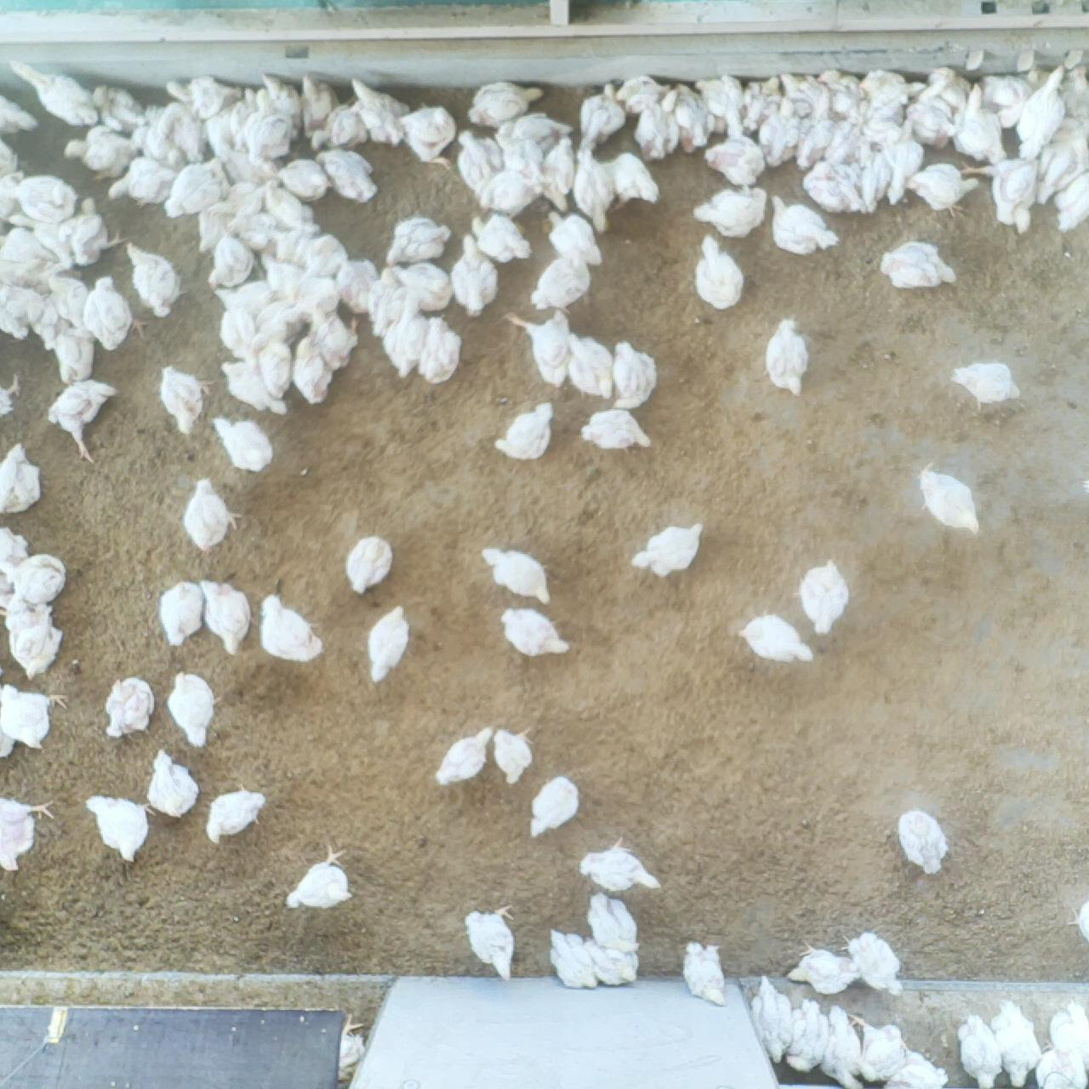chicken: (3, 52, 104, 130), (958, 150, 1048, 237), (40, 374, 123, 467), (498, 302, 574, 397), (914, 453, 989, 542), (81, 790, 157, 871), (0, 589, 66, 681), (1013, 57, 1068, 165), (121, 239, 190, 325), (282, 841, 359, 917), (255, 591, 326, 673), (828, 924, 909, 995), (574, 831, 663, 894), (175, 474, 245, 554), (155, 358, 217, 448), (0, 793, 63, 880), (81, 271, 147, 352), (479, 539, 557, 607), (58, 118, 139, 183), (767, 189, 841, 260), (1035, 110, 1089, 207), (463, 900, 525, 984), (877, 234, 962, 295), (486, 399, 561, 468), (395, 98, 461, 174), (141, 743, 201, 826), (0, 682, 68, 755), (948, 356, 1026, 419), (989, 995, 1041, 1089), (689, 228, 745, 315), (948, 80, 1007, 162), (431, 723, 500, 793), (201, 780, 272, 848), (57, 195, 123, 268), (380, 290, 432, 382), (207, 412, 278, 479), (163, 669, 222, 749), (902, 157, 979, 218), (690, 181, 769, 240), (747, 972, 796, 1066), (451, 228, 502, 318), (630, 518, 706, 578), (561, 329, 621, 405), (761, 311, 812, 400), (360, 604, 414, 688), (735, 612, 816, 668), (303, 303, 365, 376), (150, 575, 210, 650), (798, 555, 853, 636), (848, 1012, 909, 1085), (497, 606, 575, 663), (217, 358, 291, 418), (974, 67, 1040, 133), (802, 154, 870, 218), (819, 1002, 869, 1089), (413, 308, 467, 388), (605, 337, 661, 414), (349, 72, 408, 145), (106, 154, 179, 212), (198, 578, 256, 651), (528, 252, 594, 316), (543, 926, 606, 993), (544, 203, 606, 271), (165, 68, 246, 120), (894, 804, 950, 879), (467, 76, 549, 127), (382, 214, 454, 272), (160, 156, 224, 221), (883, 114, 928, 206), (601, 151, 664, 216), (338, 532, 399, 599), (954, 1009, 1005, 1089), (587, 887, 646, 956), (477, 166, 546, 225), (630, 86, 684, 161), (680, 935, 734, 1009), (452, 124, 506, 198), (465, 207, 533, 265), (780, 998, 830, 1076), (669, 74, 716, 156), (566, 147, 610, 234), (854, 62, 927, 114), (579, 405, 656, 454), (150, 97, 206, 164), (314, 147, 382, 202), (390, 262, 460, 315), (0, 550, 70, 603), (10, 172, 77, 227), (530, 772, 584, 840), (306, 94, 366, 155), (692, 71, 746, 138), (103, 673, 157, 740), (577, 80, 627, 152), (0, 439, 45, 518), (491, 106, 574, 148), (757, 94, 804, 167), (792, 941, 862, 990), (581, 936, 643, 990), (704, 131, 766, 185), (492, 131, 543, 196), (90, 79, 151, 133), (48, 273, 101, 335), (902, 87, 956, 147), (1044, 1000, 1089, 1072), (210, 138, 281, 183), (365, 262, 407, 338), (539, 132, 578, 213), (491, 722, 540, 786), (264, 184, 323, 236), (292, 335, 334, 406), (1033, 1035, 1088, 1089), (289, 272, 343, 326), (130, 116, 185, 169), (883, 1046, 950, 1089), (791, 101, 832, 171), (332, 256, 381, 314), (1051, 167, 1089, 241), (610, 71, 671, 117), (255, 333, 296, 401), (258, 70, 306, 128), (245, 112, 304, 159), (330, 1010, 368, 1082), (202, 172, 259, 219), (779, 70, 831, 121), (276, 155, 333, 201), (296, 70, 336, 135), (0, 225, 53, 273), (819, 63, 860, 125), (742, 72, 782, 135), (251, 304, 303, 352), (0, 282, 41, 342), (211, 279, 274, 318), (821, 105, 865, 160), (33, 291, 71, 354), (217, 304, 259, 360), (227, 208, 280, 252), (207, 238, 249, 293), (259, 247, 305, 297), (301, 229, 348, 275), (38, 213, 75, 269), (271, 218, 318, 262), (1058, 64, 1089, 129), (202, 100, 235, 161), (859, 144, 889, 211), (851, 111, 908, 146), (931, 63, 973, 110), (230, 85, 260, 150), (0, 253, 46, 292), (0, 91, 41, 134), (0, 522, 30, 579), (0, 166, 29, 222), (0, 371, 29, 421), (194, 212, 222, 259), (0, 137, 24, 185), (1067, 898, 1089, 939)
